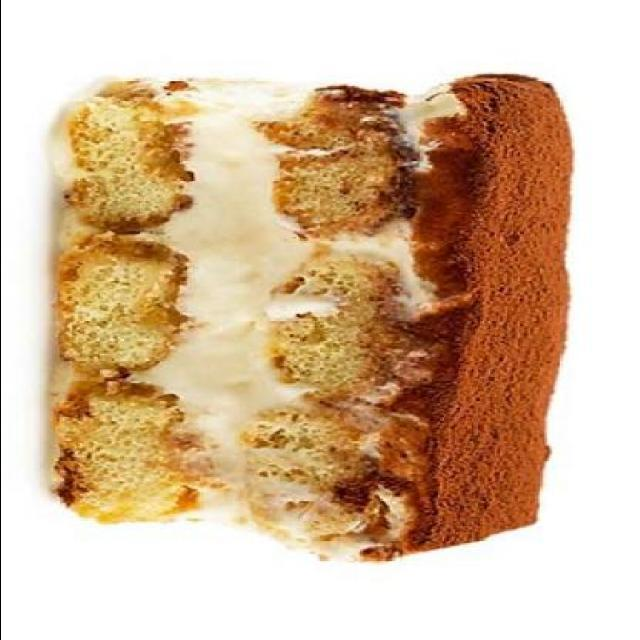Tiramisu: (21, 70, 584, 534)
